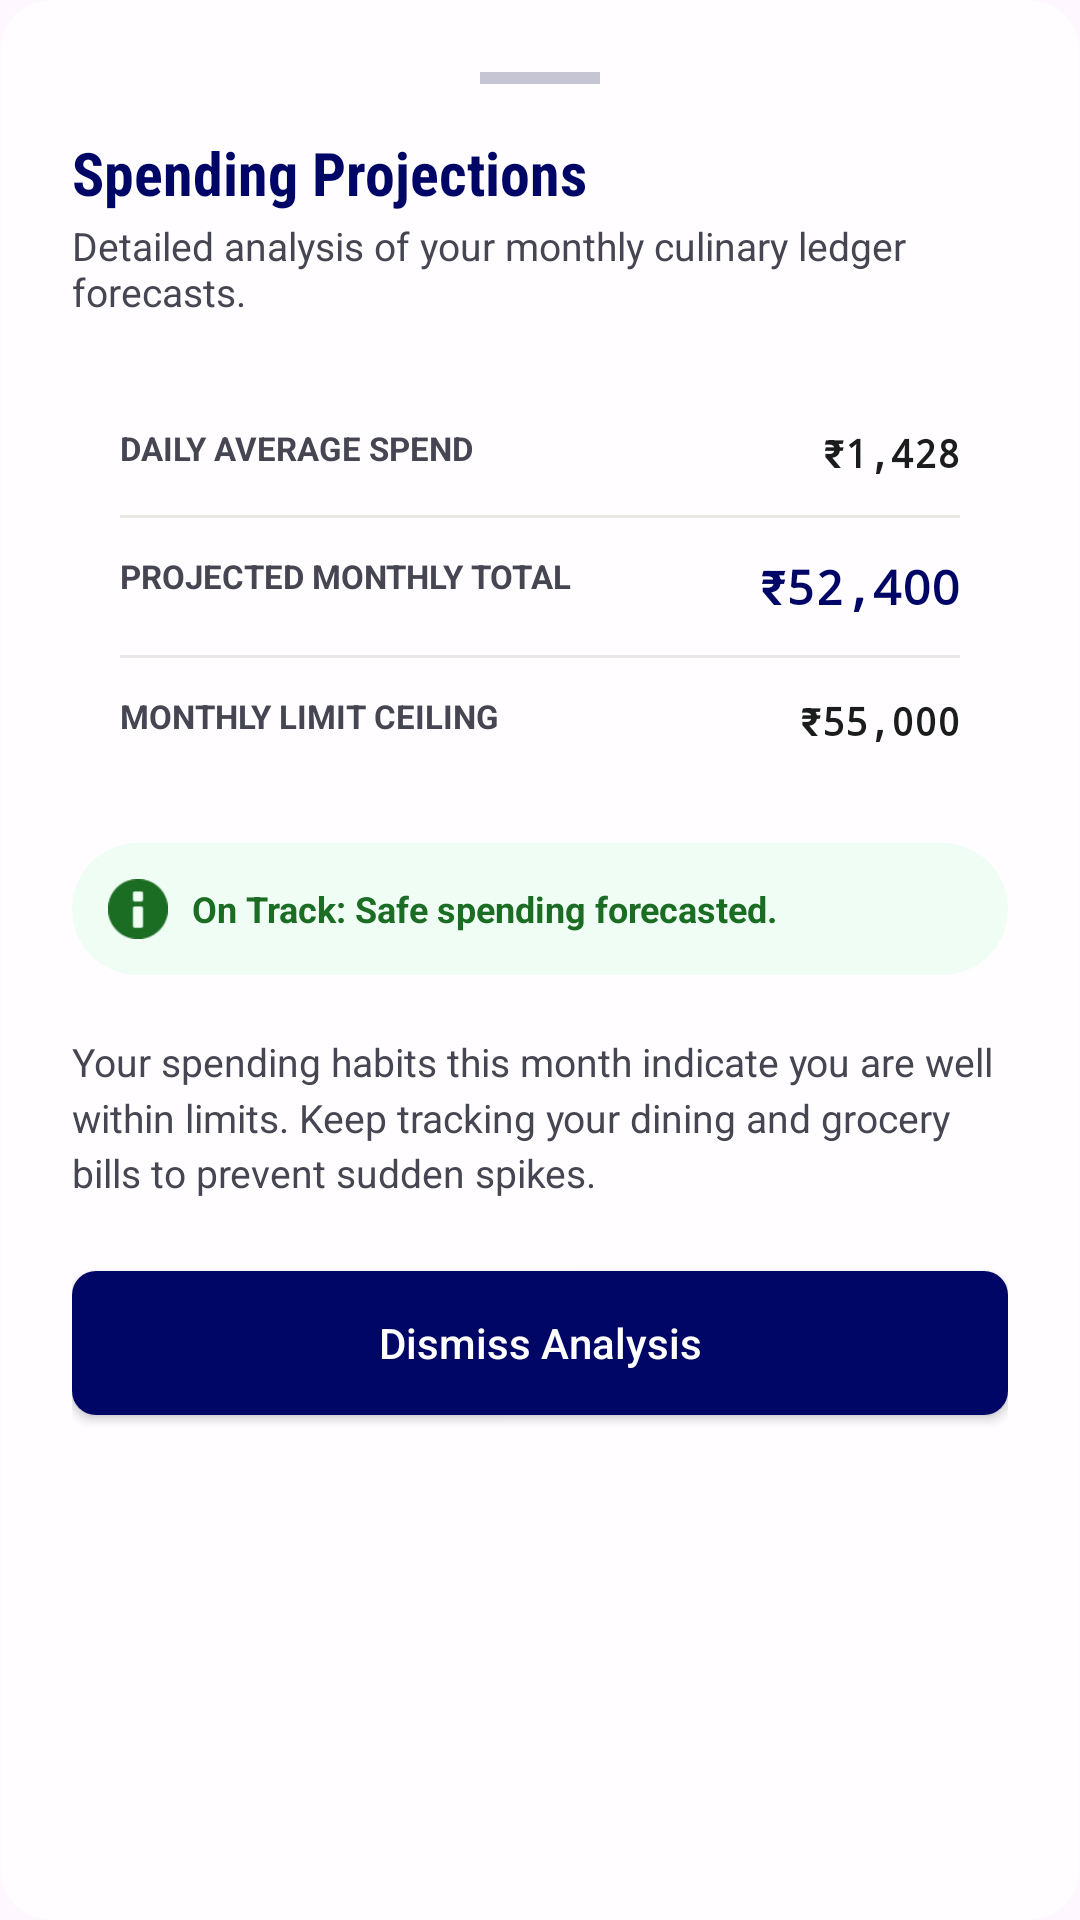

Locate icon controls on the screen. Image size 1080px×1920px, boxes as (x1, y1, x2, y2).
info: (108, 879, 168, 939)
